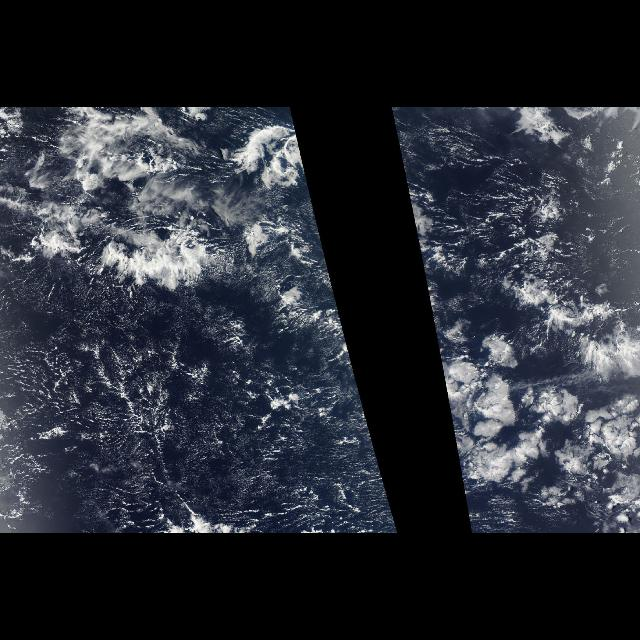Flower: (420, 269, 640, 533)
Sugar: (6, 265, 398, 533), (419, 120, 581, 226)
